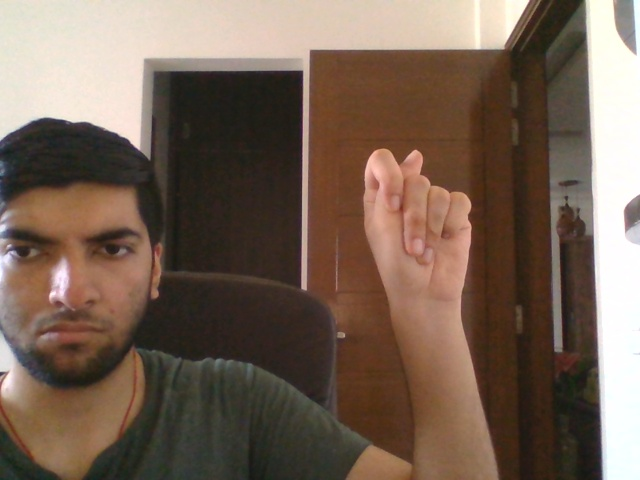LetterT: (360, 144, 475, 308)
